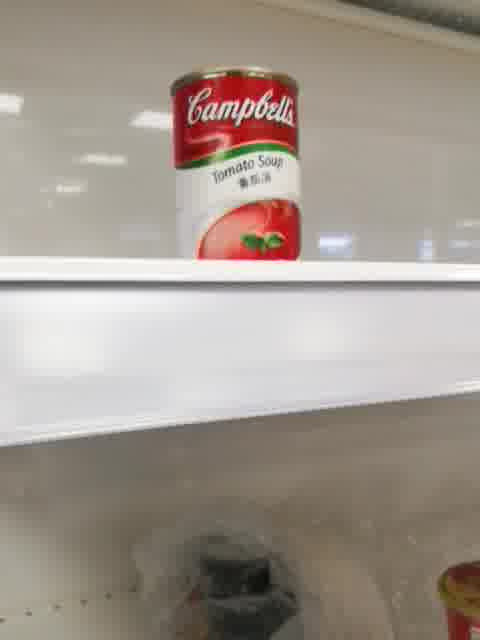tomatosoup: (168, 65, 304, 260)
